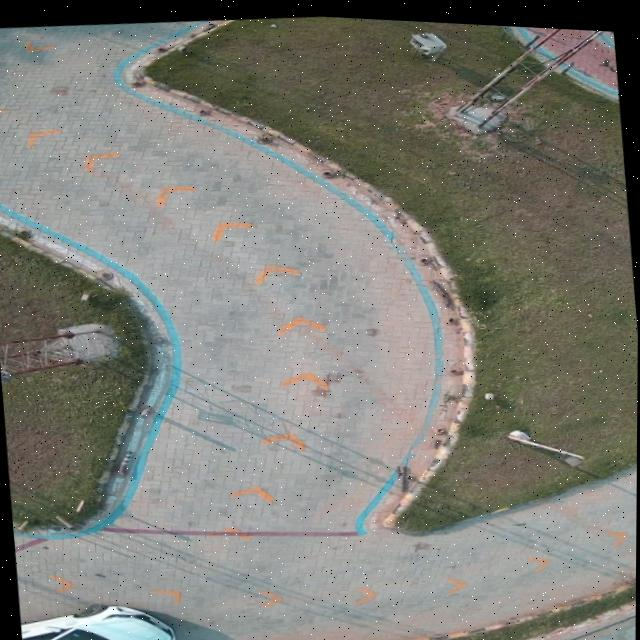car: (22, 603, 176, 640)
